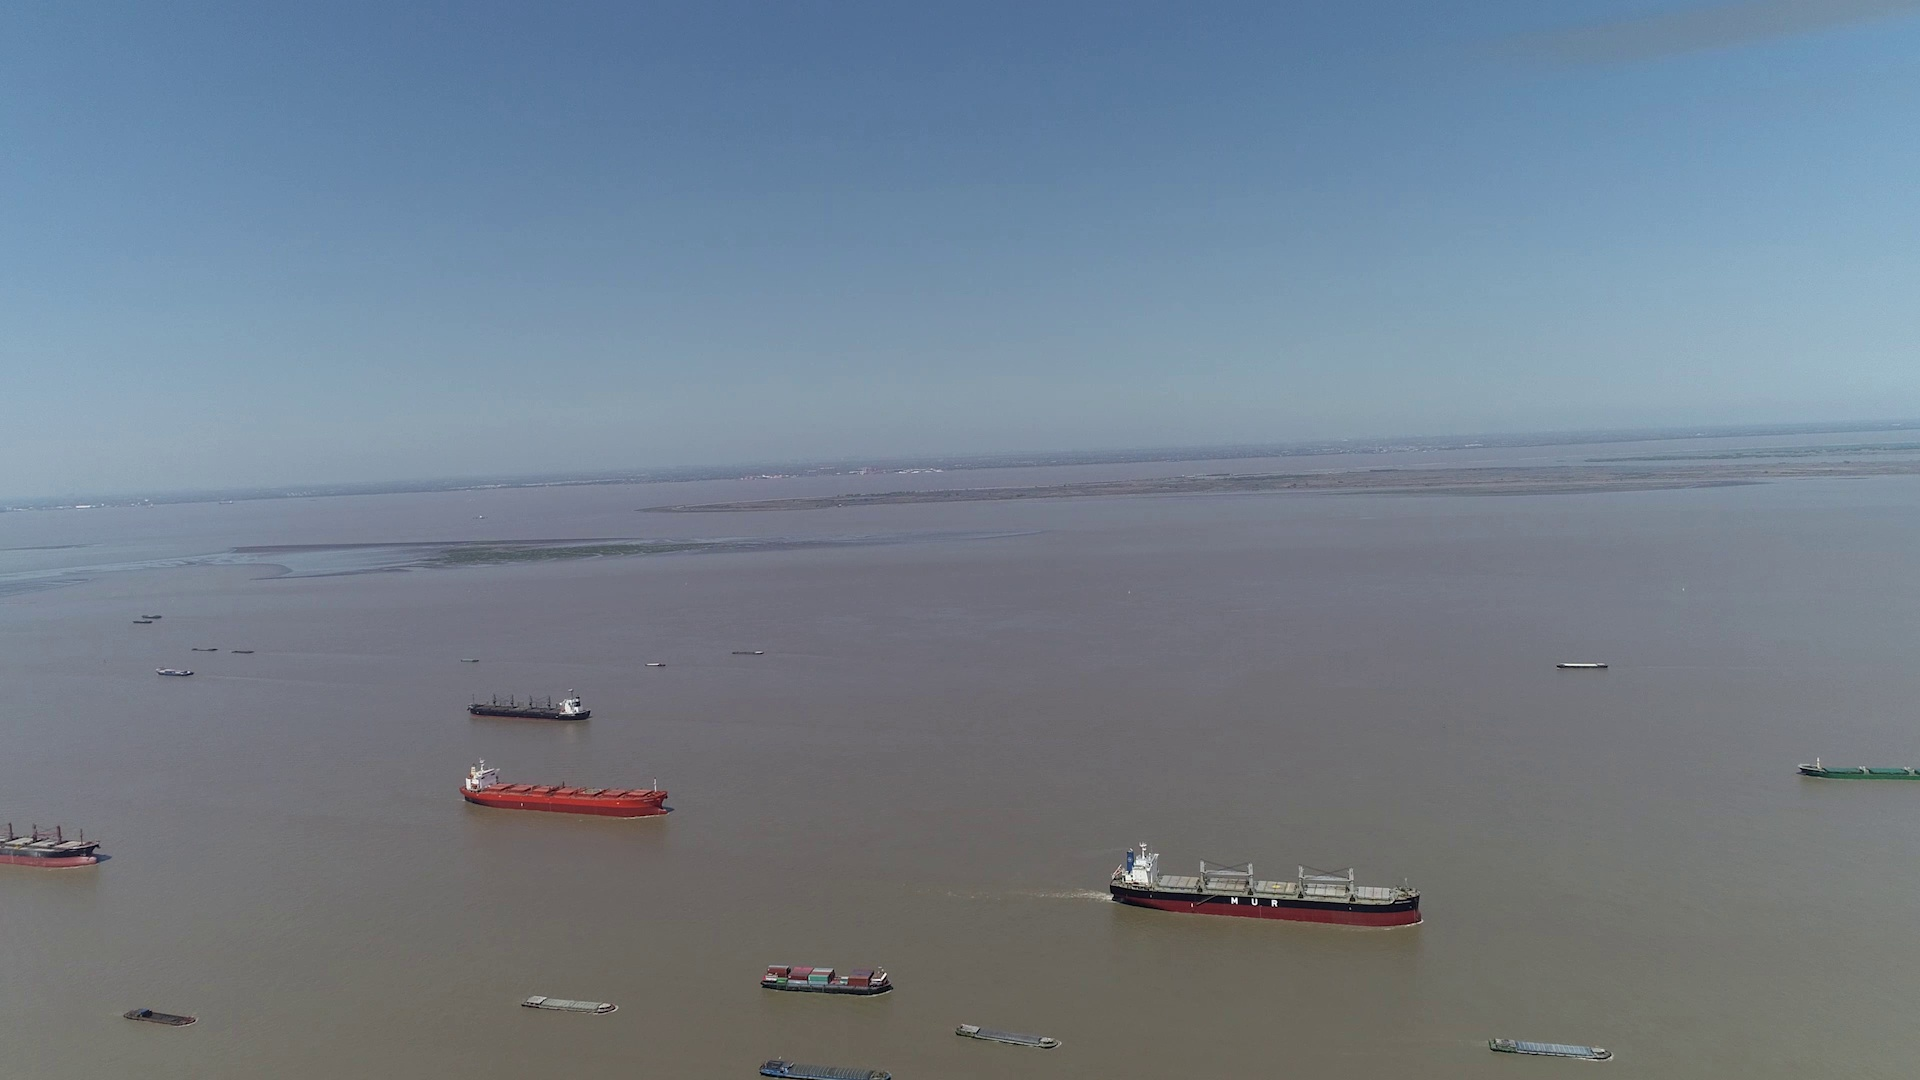ship: (1112, 843, 1423, 928), (462, 757, 667, 818), (3, 807, 103, 868), (761, 963, 894, 996), (467, 691, 592, 723), (1487, 1035, 1611, 1060), (760, 1058, 893, 1080), (1797, 758, 1920, 782), (957, 1022, 1062, 1048), (522, 994, 618, 1015), (124, 1009, 199, 1027), (1556, 662, 1607, 671), (157, 666, 196, 676)
